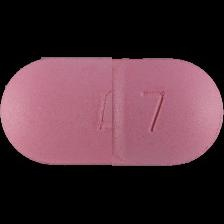65862-015: (0, 0, 224, 224)
